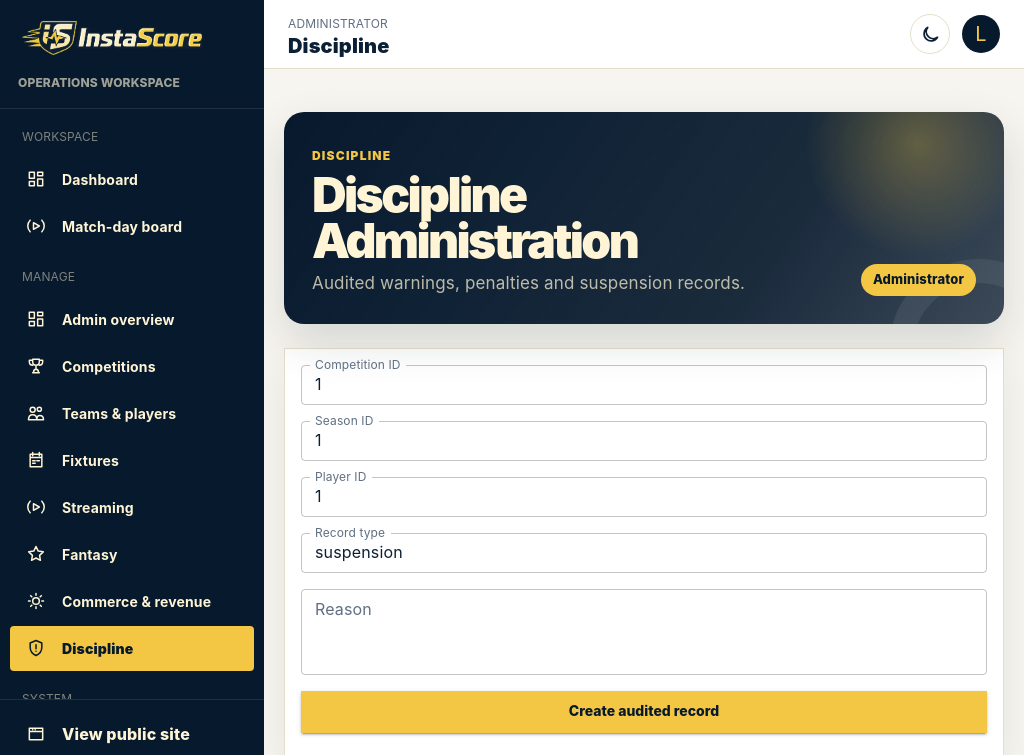
Scenario: Standings, statistics and discipline UI › submits discipline records through the audited admin workflow
In the text box labelled "Reason": (644, 632) [315,597,973,666], type "Unsporting conduct"
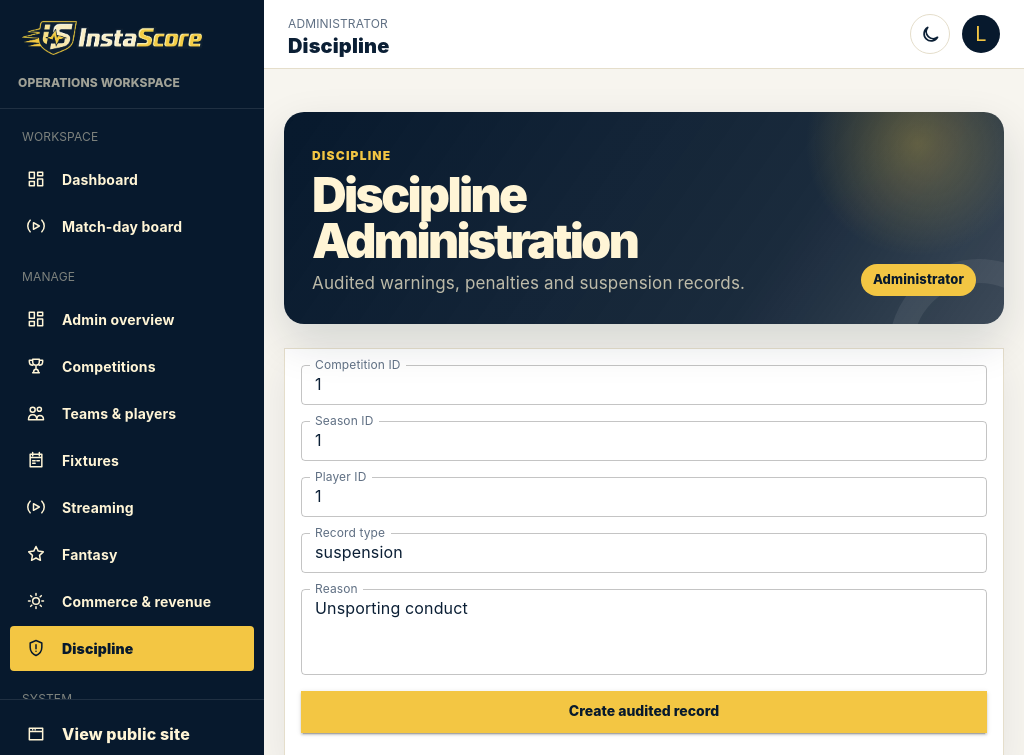
Click the button "Create audited record": click(644, 712) [301,691,987,733]
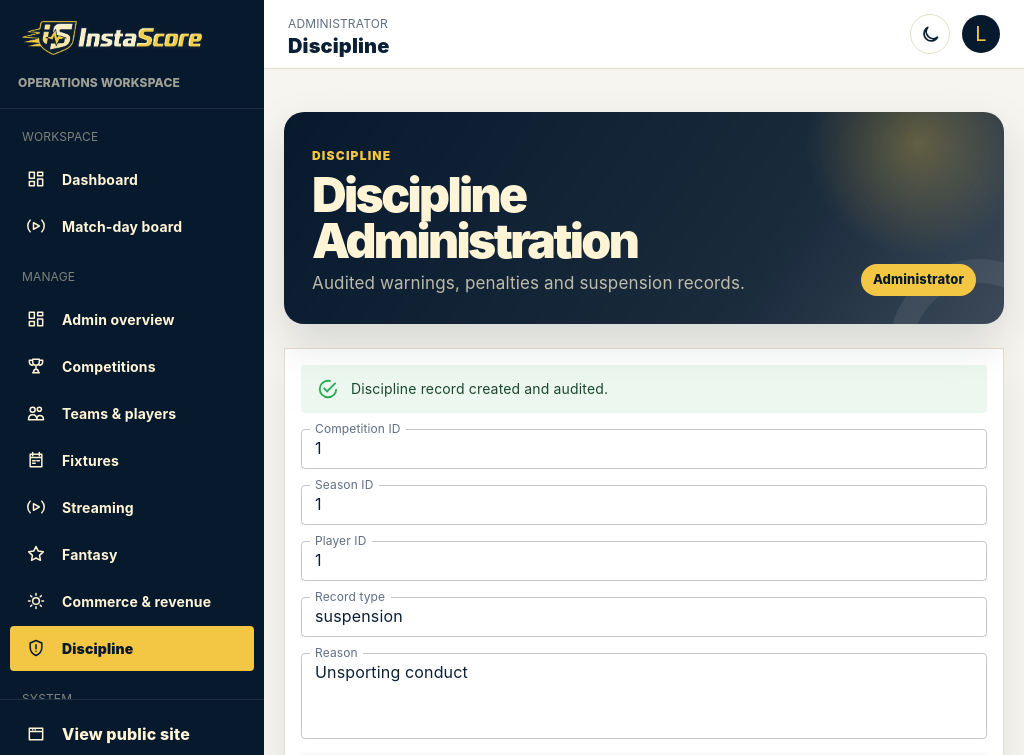
expect the text "Discipline record created and audited." is shown: met, box [351,380,608,397]
